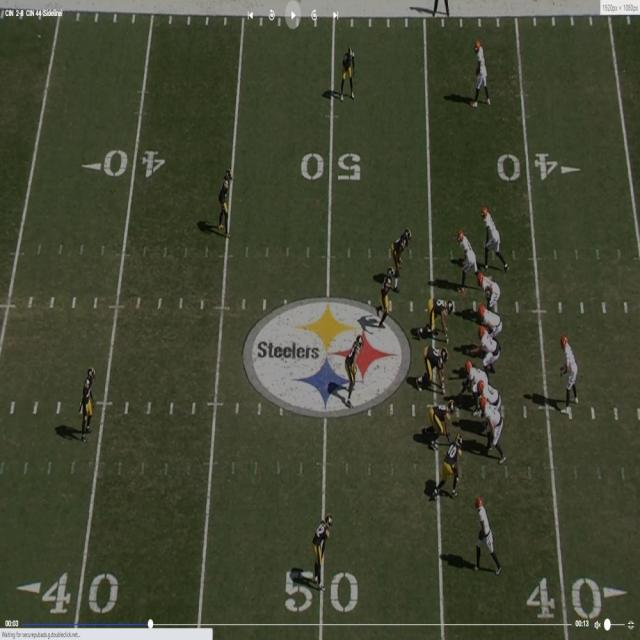center: (463, 360, 482, 406)
db: (312, 514, 332, 590), (221, 167, 233, 237), (83, 368, 94, 438), (344, 45, 356, 95)
lb: (437, 435, 463, 494), (344, 334, 364, 408), (376, 272, 393, 326), (392, 230, 409, 279)
qb: (560, 336, 576, 402)
skill: (486, 208, 507, 264), (479, 500, 496, 562), (461, 230, 479, 278), (473, 41, 486, 105), (482, 272, 501, 308)
